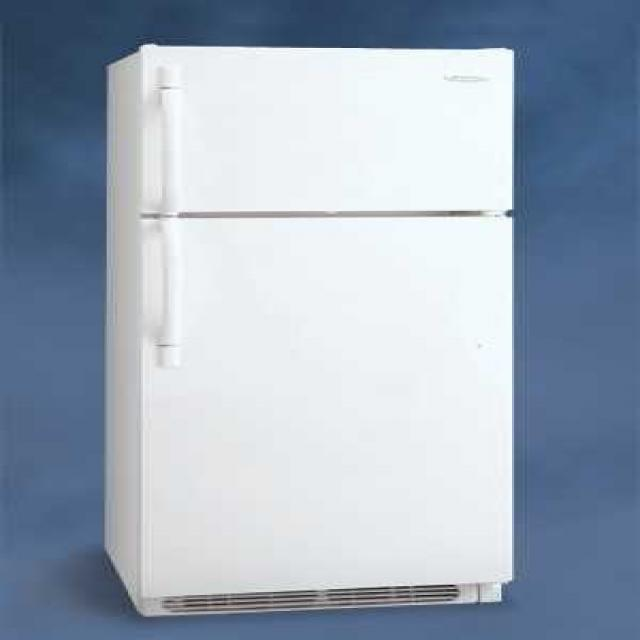refrigerator: (134, 43, 517, 610)
